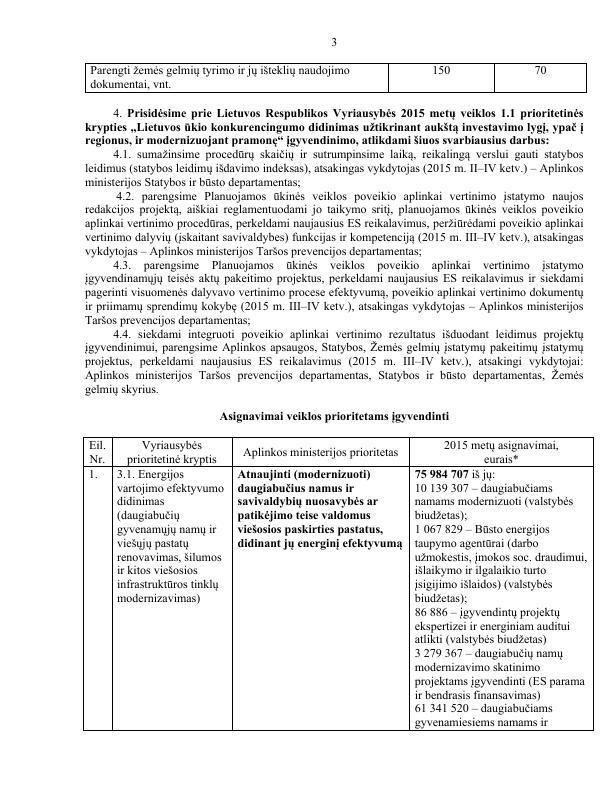table: (80, 435, 596, 735), (82, 58, 589, 96)
text: (81, 104, 587, 399), (216, 410, 453, 426)
